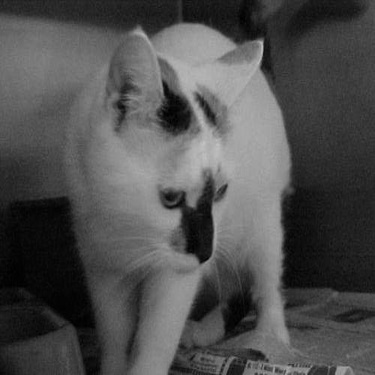cat: (58, 30, 305, 374)
